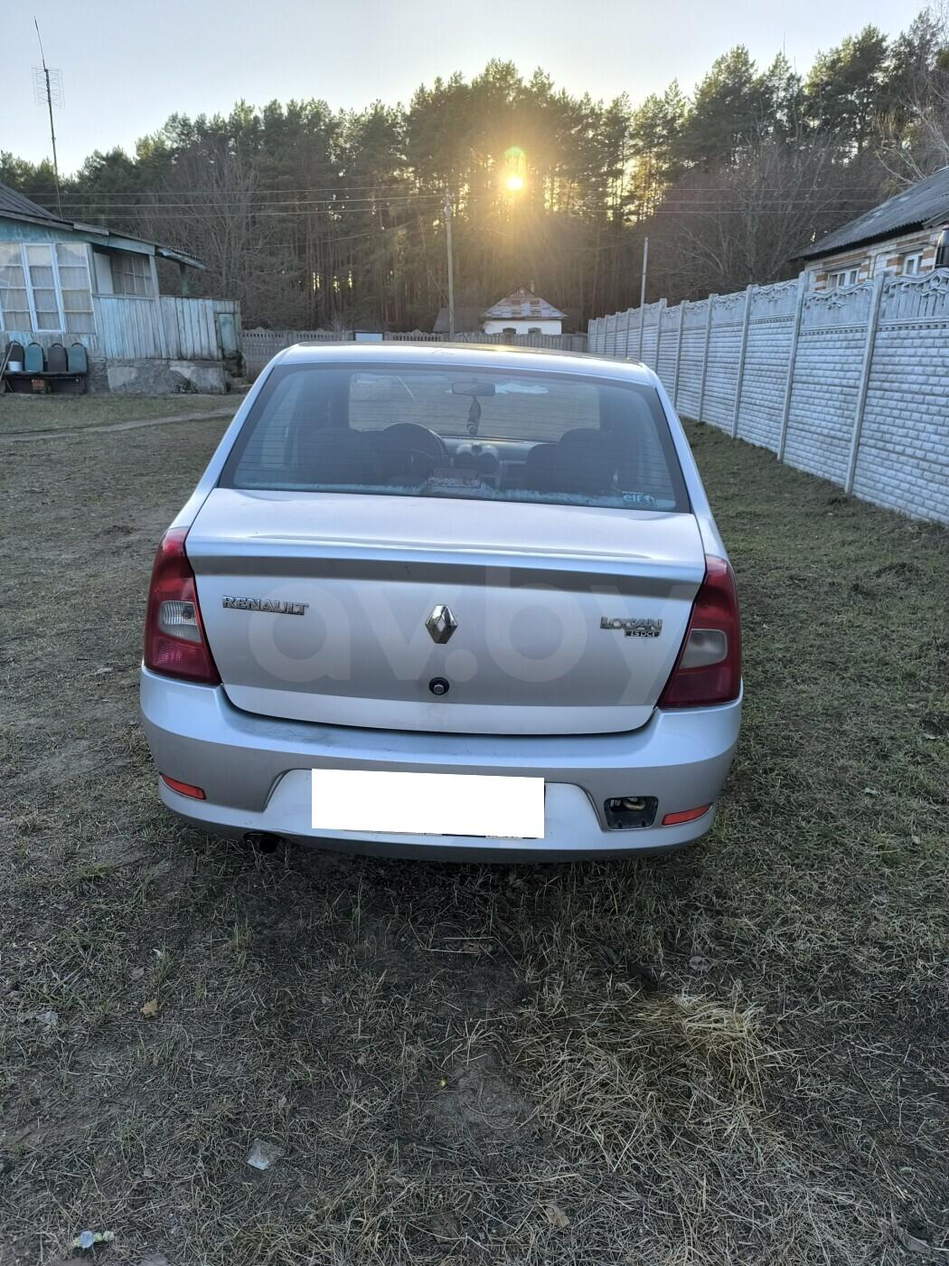Logan_2008-2015: (136, 335, 763, 904)
